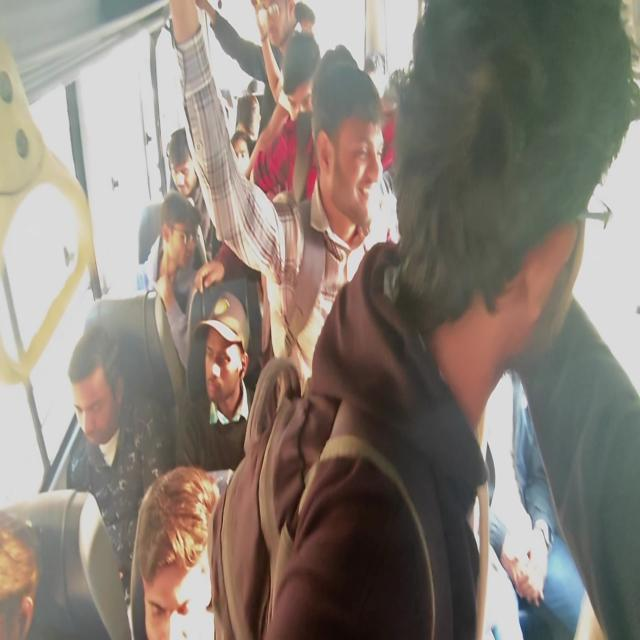person: (260, 1, 638, 638), (167, 0, 385, 395), (66, 325, 175, 628), (83, 190, 202, 416), (130, 464, 222, 638), (176, 286, 257, 472), (246, 31, 320, 204), (137, 190, 202, 375), (166, 127, 219, 266), (0, 512, 40, 639)
